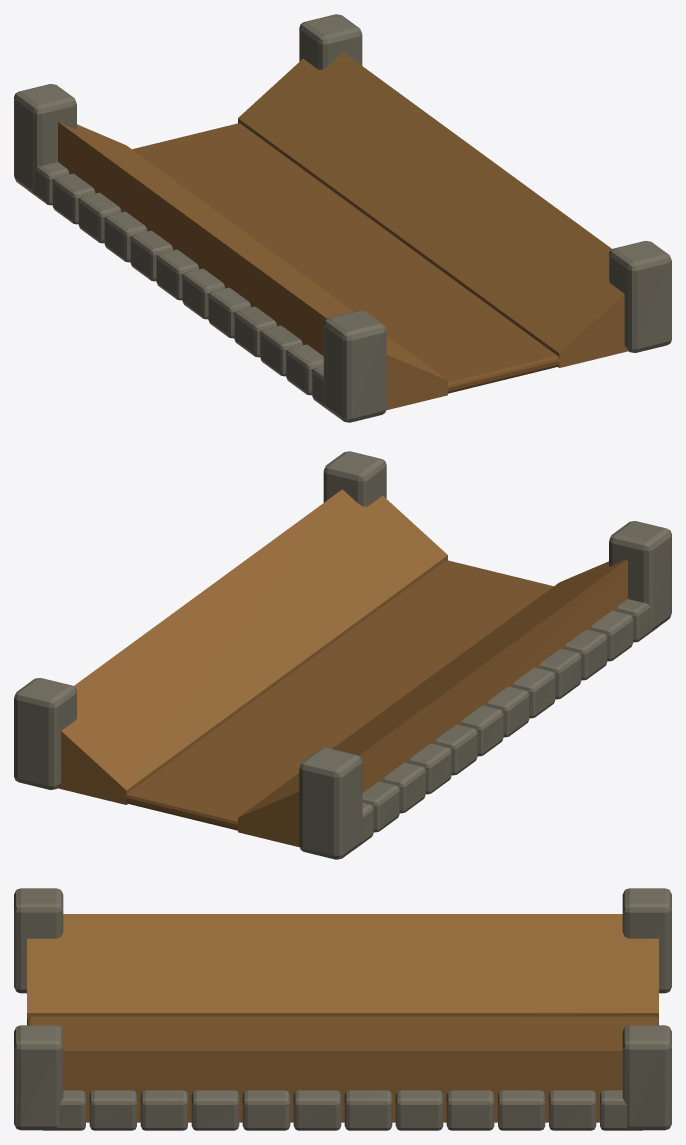
The model's file is irrigation-ditch.source.glb.
The picture shows the model from 3 angles, top to bottom: view 1: azimuth 30°, elevation 25°; view 2: azimuth 150°, elevation 25°; view 3: azimuth 270°, elevation 25°; orthographic projection.
Parts seen in each view (by area): view 1: irrigation-ditch-right-bank-mesh, irrigation-ditch-channel-floor-mesh, irrigation-ditch-left-bank-mesh, irrigation-ditch-output-left-corner-mesh, irrigation-ditch-output-right-corner-mesh, irrigation-ditch-input-left-corner-mesh, irrigation-ditch-input-right-corner-mesh, irrigation-ditch-left-edge-block-2-mesh, irrigation-ditch-left-edge-block-3-mesh, irrigation-ditch-left-edge-block-4-mesh, irrigation-ditch-left-edge-block-5-mesh, irrigation-ditch-left-edge-block-6-mesh (+6 smaller); view 2: irrigation-ditch-right-bank-mesh, irrigation-ditch-channel-floor-mesh, irrigation-ditch-left-bank-mesh, irrigation-ditch-input-left-corner-mesh, irrigation-ditch-input-right-corner-mesh, irrigation-ditch-output-left-corner-mesh, irrigation-ditch-output-right-corner-mesh, irrigation-ditch-left-edge-block-10-mesh, irrigation-ditch-left-edge-block-11-mesh, irrigation-ditch-left-edge-block-9-mesh, irrigation-ditch-left-edge-block-8-mesh, irrigation-ditch-left-edge-block-7-mesh (+6 smaller); view 3: irrigation-ditch-left-bank-mesh, irrigation-ditch-right-bank-mesh, irrigation-ditch-channel-floor-mesh, irrigation-ditch-input-right-corner-mesh, irrigation-ditch-output-right-corner-mesh, irrigation-ditch-input-left-corner-mesh, irrigation-ditch-output-left-corner-mesh, irrigation-ditch-right-edge-block-4-mesh, irrigation-ditch-right-edge-block-5-mesh, irrigation-ditch-right-edge-block-8-mesh, irrigation-ditch-right-edge-block-9-mesh, irrigation-ditch-right-edge-block-6-mesh (+7 smaller).
Boxes of the visible parts, bbox=[...] form: irrigation-ditch-right-bank-mesh: bbox=[238, 52, 627, 367]; irrigation-ditch-channel-floor-mesh: bbox=[132, 123, 559, 393]; irrigation-ditch-left-bank-mesh: bbox=[58, 122, 447, 410]; irrigation-ditch-output-left-corner-mesh: bbox=[323, 310, 386, 422]; irrigation-ditch-output-right-corner-mesh: bbox=[609, 241, 671, 352]; irrigation-ditch-input-left-corner-mesh: bbox=[14, 84, 76, 194]; irrigation-ditch-input-right-corner-mesh: bbox=[299, 14, 362, 69]; irrigation-ditch-left-edge-block-2-mesh: bbox=[52, 173, 95, 224]; irrigation-ditch-left-edge-block-3-mesh: bbox=[78, 192, 121, 243]; irrigation-ditch-left-edge-block-4-mesh: bbox=[104, 211, 147, 262]; irrigation-ditch-left-edge-block-5-mesh: bbox=[130, 230, 172, 281]; irrigation-ditch-left-edge-block-6-mesh: bbox=[156, 249, 198, 300]; irrigation-ditch-right-bank-mesh: bbox=[58, 489, 447, 804]; irrigation-ditch-channel-floor-mesh: bbox=[126, 560, 553, 830]; irrigation-ditch-left-bank-mesh: bbox=[238, 559, 627, 847]; irrigation-ditch-input-left-corner-mesh: bbox=[299, 747, 362, 859]; irrigation-ditch-input-right-corner-mesh: bbox=[14, 678, 76, 789]; irrigation-ditch-output-left-corner-mesh: bbox=[609, 521, 671, 631]; irrigation-ditch-output-right-corner-mesh: bbox=[323, 451, 386, 506]; irrigation-ditch-left-edge-block-10-mesh: bbox=[564, 629, 607, 680]; irrigation-ditch-left-edge-block-11-mesh: bbox=[590, 610, 633, 661]; irrigation-ditch-left-edge-block-9-mesh: bbox=[538, 648, 581, 699]; irrigation-ditch-left-edge-block-8-mesh: bbox=[513, 667, 555, 718]; irrigation-ditch-left-edge-block-7-mesh: bbox=[487, 686, 529, 737]; irrigation-ditch-left-bank-mesh: bbox=[27, 914, 658, 1019]; irrigation-ditch-right-bank-mesh: bbox=[63, 1051, 622, 1122]; irrigation-ditch-channel-floor-mesh: bbox=[27, 1016, 658, 1050]; irrigation-ditch-input-right-corner-mesh: bbox=[622, 1025, 671, 1130]; irrigation-ditch-output-right-corner-mesh: bbox=[14, 1025, 63, 1130]; irrigation-ditch-input-left-corner-mesh: bbox=[622, 888, 671, 993]; irrigation-ditch-output-left-corner-mesh: bbox=[14, 888, 63, 993]; irrigation-ditch-right-edge-block-4-mesh: bbox=[446, 1090, 494, 1130]; irrigation-ditch-right-edge-block-5-mesh: bbox=[395, 1090, 443, 1130]; irrigation-ditch-right-edge-block-8-mesh: bbox=[242, 1090, 290, 1130]; irrigation-ditch-right-edge-block-9-mesh: bbox=[191, 1090, 239, 1130]; irrigation-ditch-right-edge-block-6-mesh: bbox=[344, 1090, 392, 1130].
Size of the model in its own units: 1.89 by 0.5 by 3.33.
